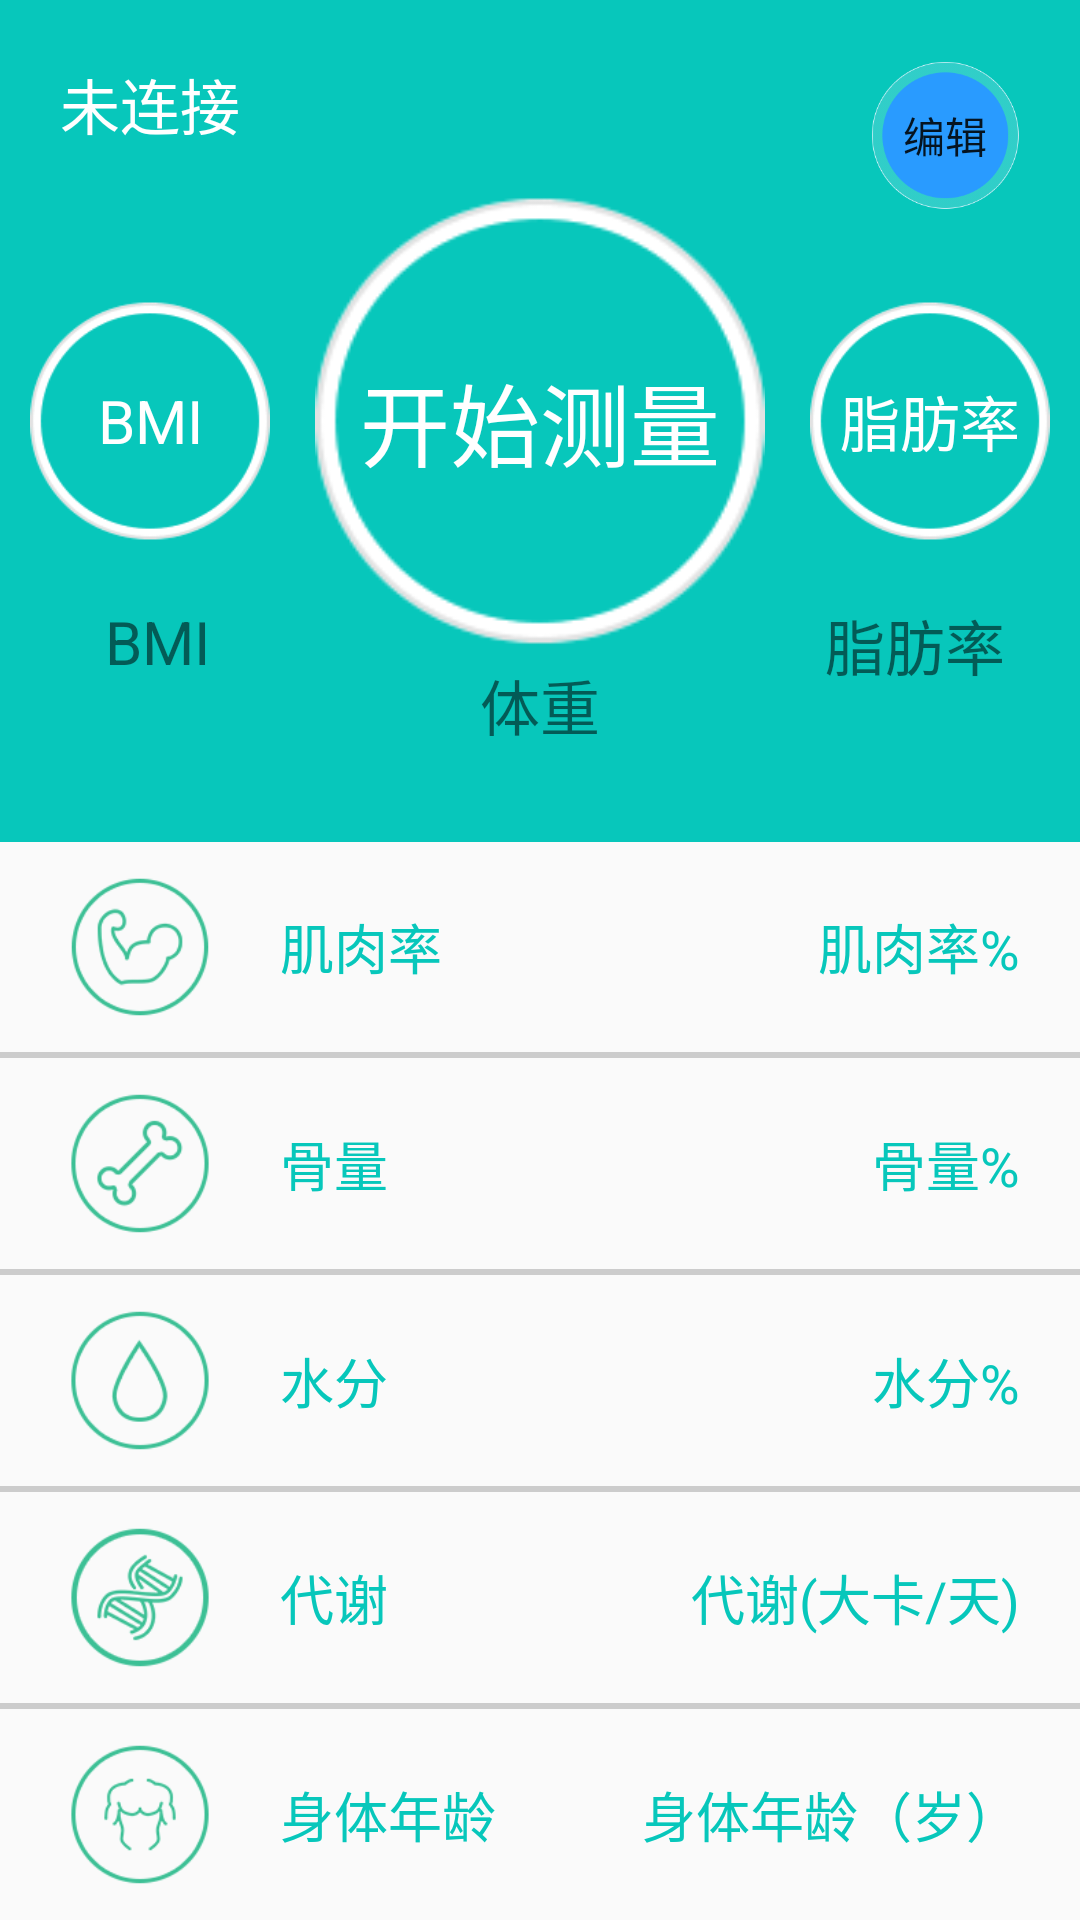

Named icons in this screenshot (1080px x 1920px) and their centers, [x,y]:
boneicon: [140,1163]
moistureicon: [140,1380]
muscleicon: [140,947]
